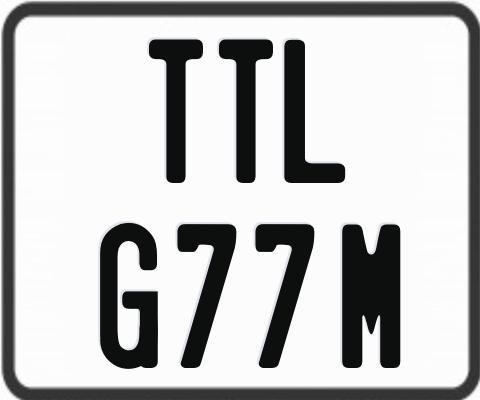7: (252, 222, 317, 372), (177, 224, 241, 368)
G: (99, 220, 160, 372)
L: (282, 40, 343, 185)
M: (339, 224, 397, 373)
T: (217, 38, 277, 186), (146, 36, 201, 180)
